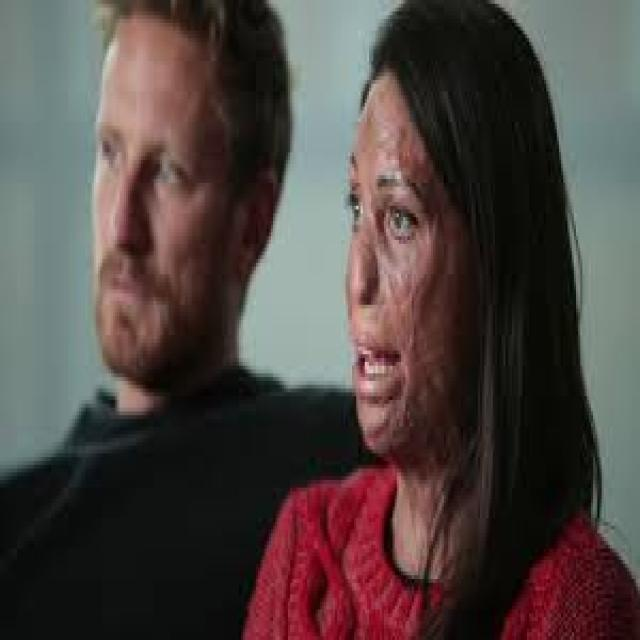burn: (345, 66, 470, 579)
